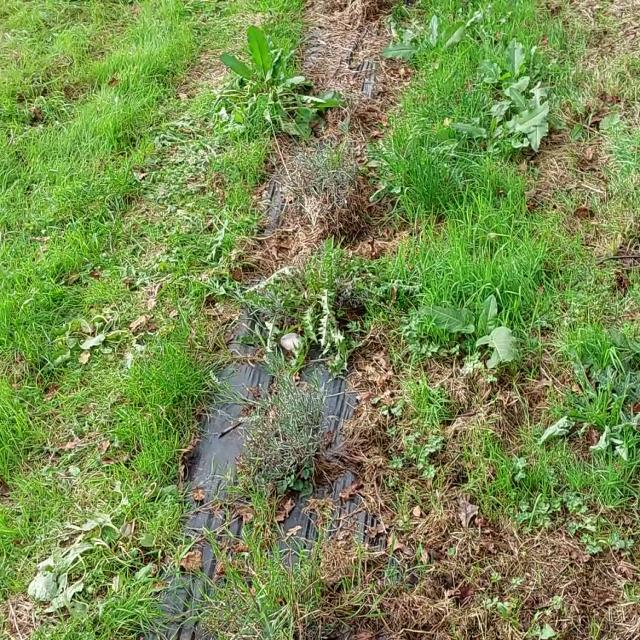organic waste: (19, 490, 157, 624), (208, 34, 334, 153), (426, 274, 530, 376), (471, 73, 575, 161), (386, 9, 478, 83), (474, 31, 556, 102), (47, 302, 135, 367)
